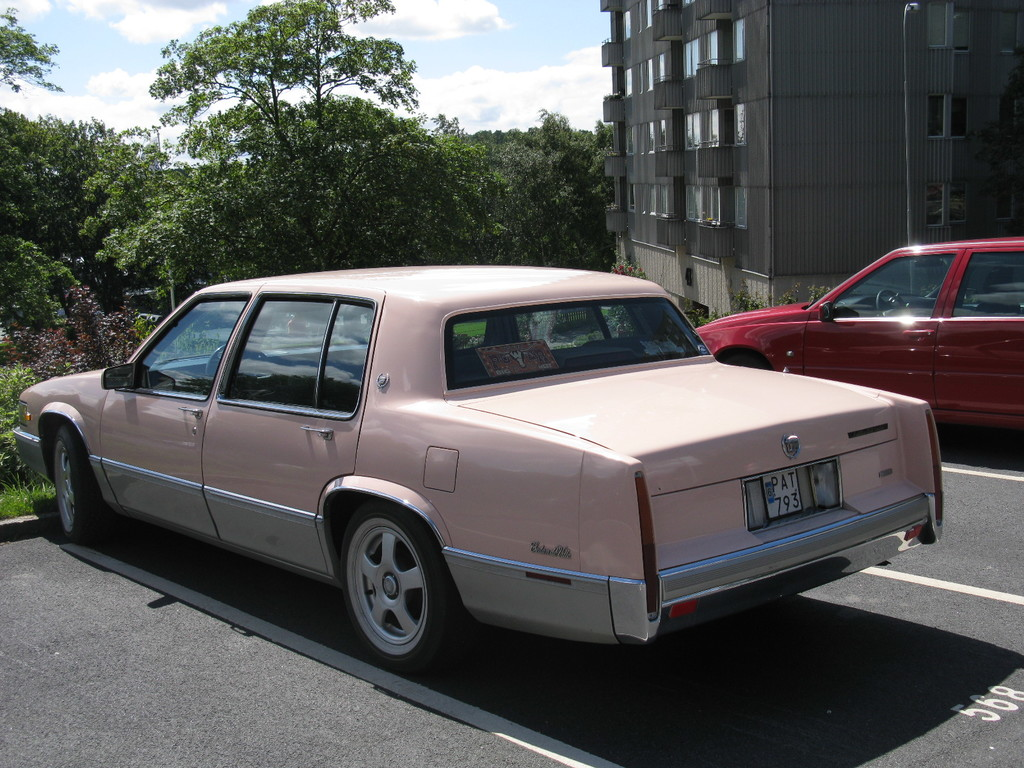Car: (12, 266, 944, 675), (694, 236, 1023, 437)
